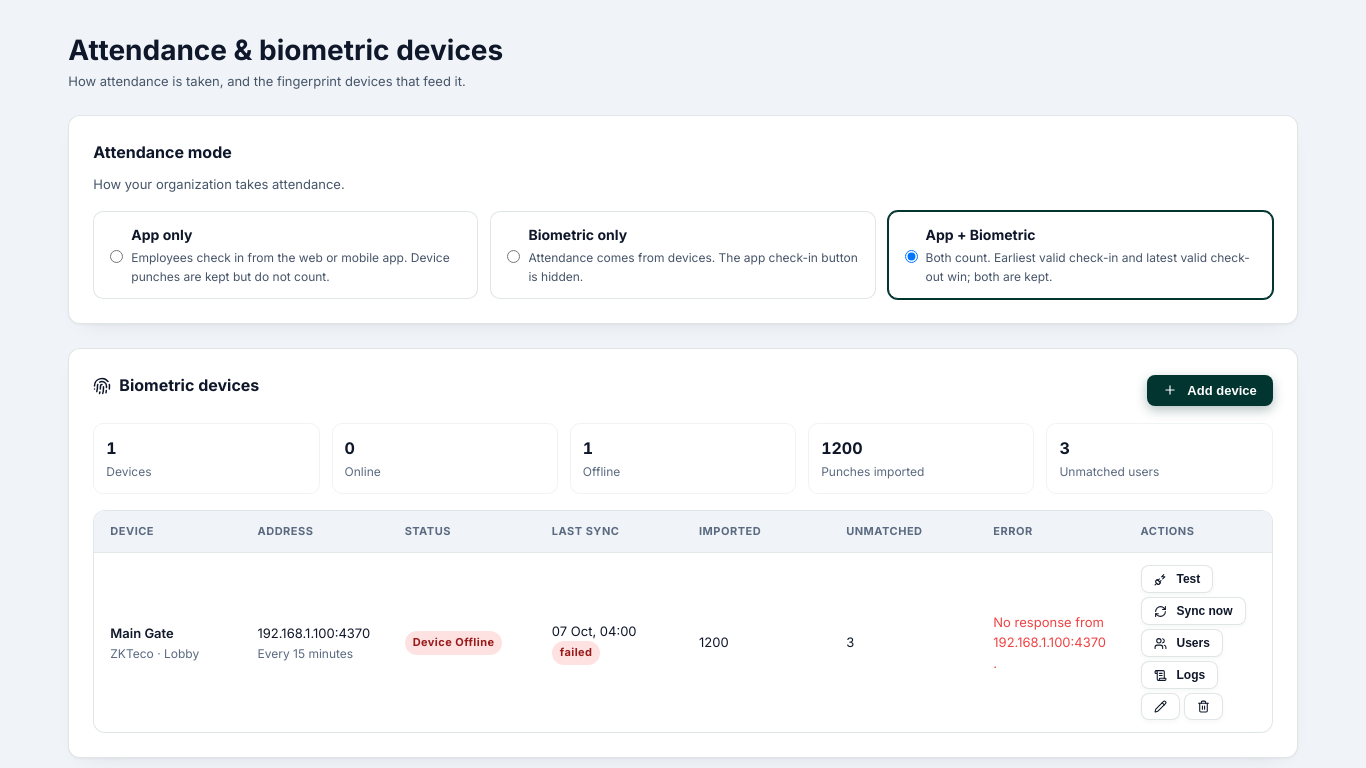
it: Settings -> Attendance & biometric devices › reports Test Connection with the device information it read
Click the button "Test".
click(1177, 579)  # box [1140,565,1213,593]
(page scrolled)
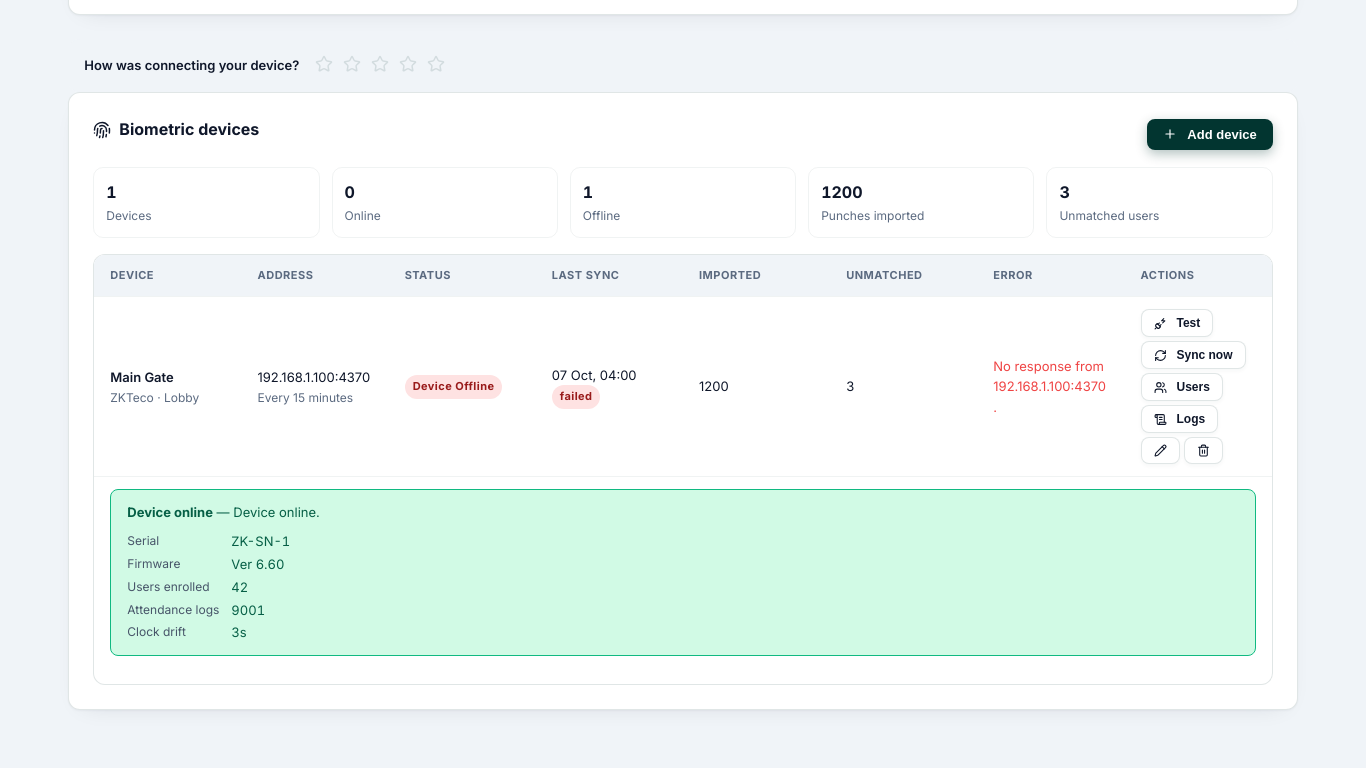
expect the text "ZK-SN-1" is shown: met, box [231,533,290,549]
expect the text "42" is shown: met, box [231,579,248,595]
